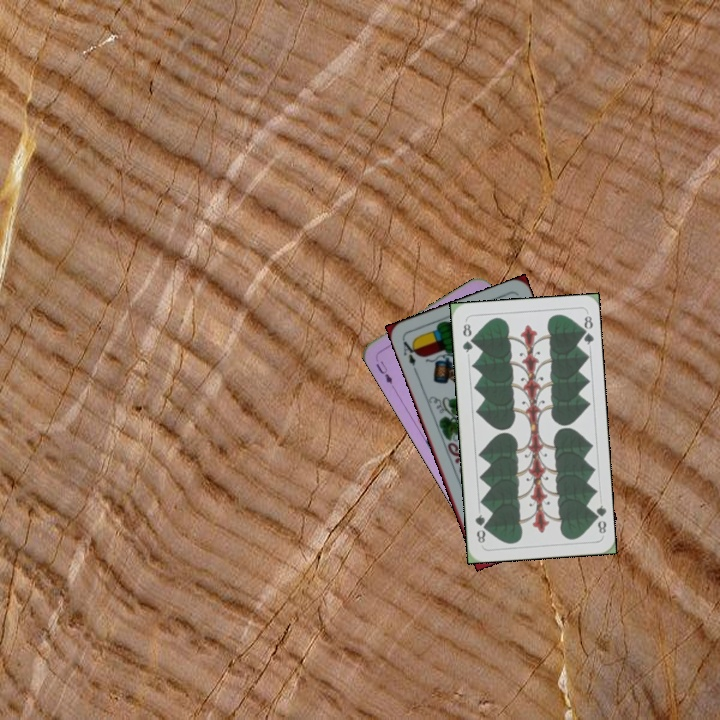EA: (399, 336, 422, 369)
EU: (372, 357, 395, 386)
G8: (589, 501, 609, 536), (458, 317, 476, 355)
